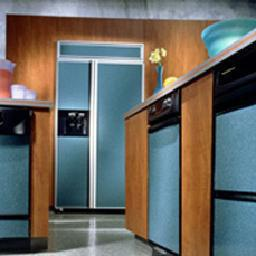Electrodomestico: (59, 44, 133, 209), (210, 41, 254, 251), (149, 84, 181, 250), (2, 104, 31, 247)
